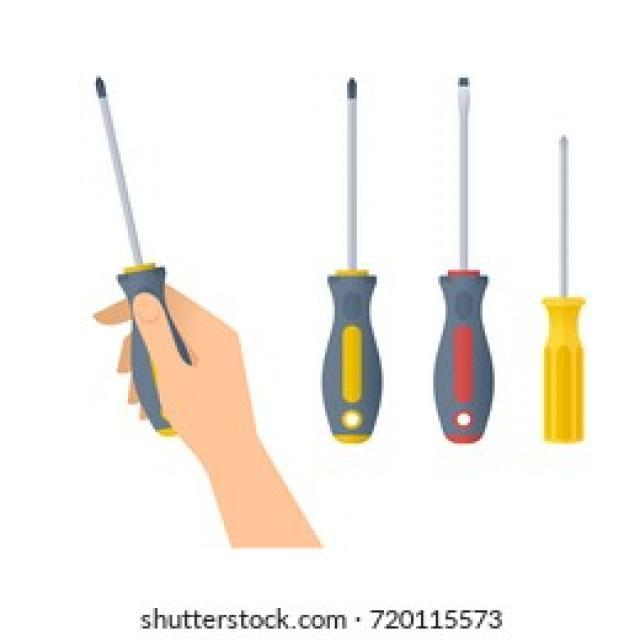screwdriver: (80, 68, 198, 439), (424, 74, 498, 449), (316, 69, 383, 448), (534, 134, 596, 452)
